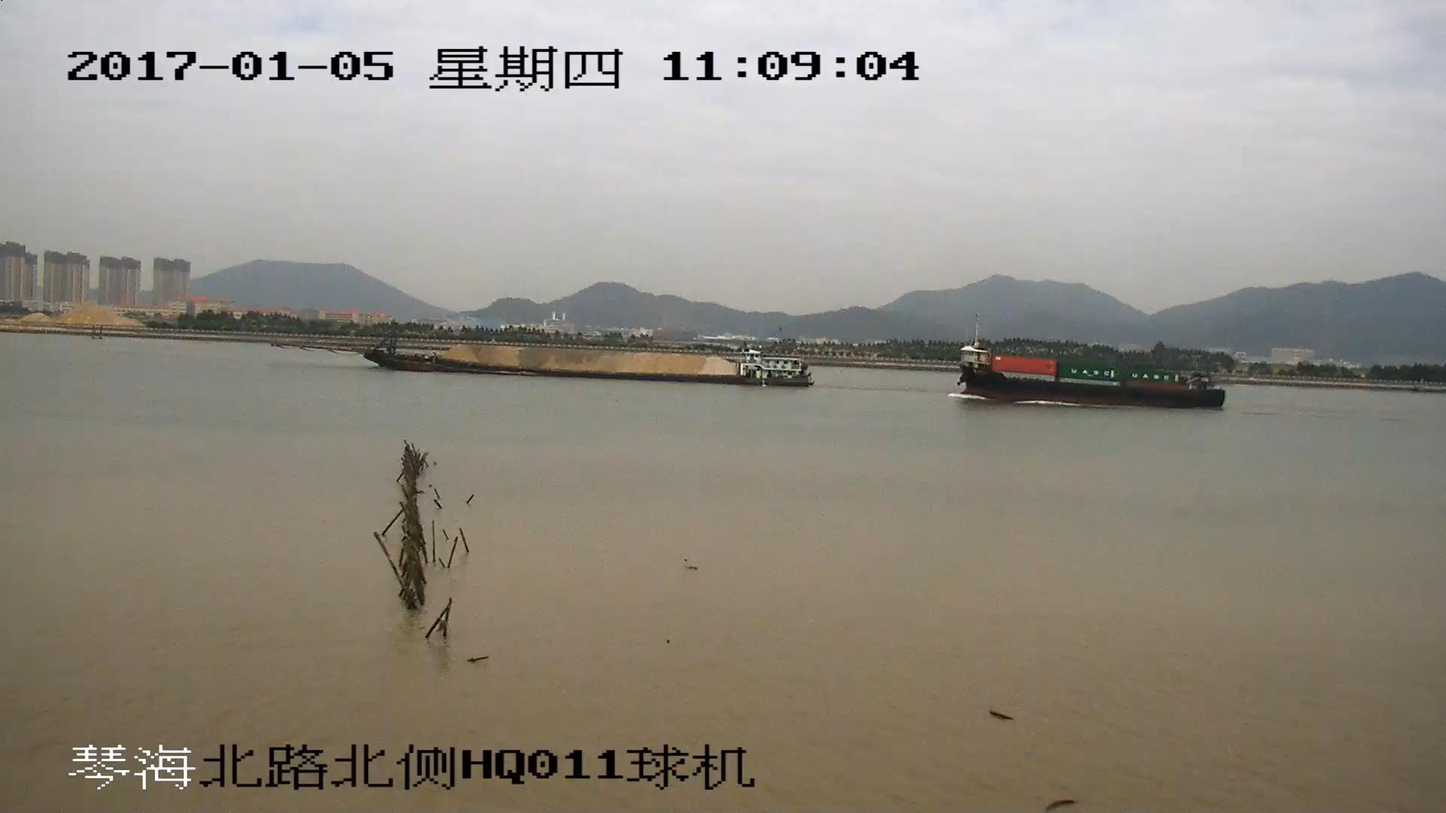container ship: (955, 340, 1222, 403)
ore carrier: (283, 322, 805, 388)
